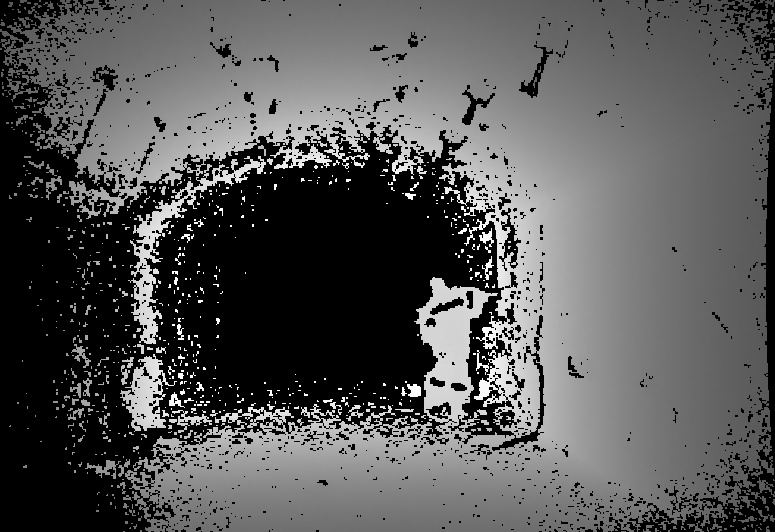person: (416, 276, 499, 420)
